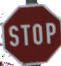Stop sign: (0, 0, 60, 65)
